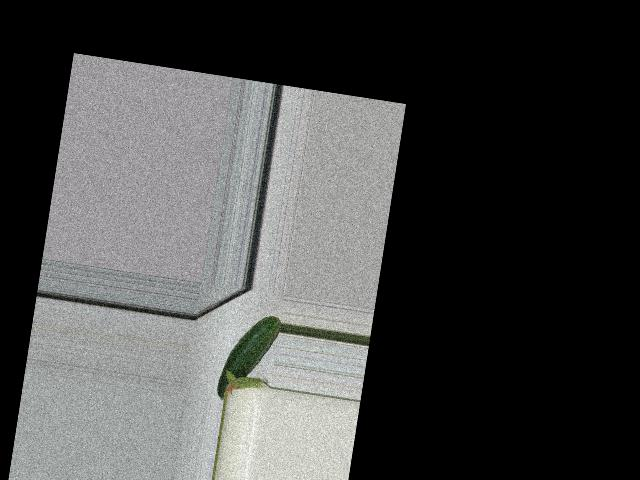cucumber: (216, 309, 282, 406)
